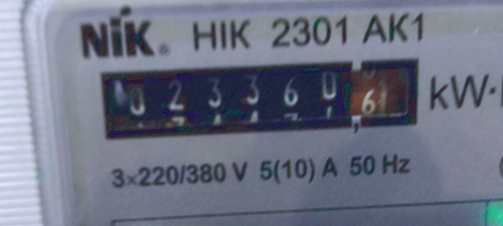0: (121, 80, 145, 116), (313, 65, 337, 101)
2: (161, 76, 184, 112)
3: (200, 73, 222, 110), (239, 70, 258, 105)
6: (276, 71, 298, 106), (354, 82, 374, 116)
screen: (83, 41, 439, 159)
